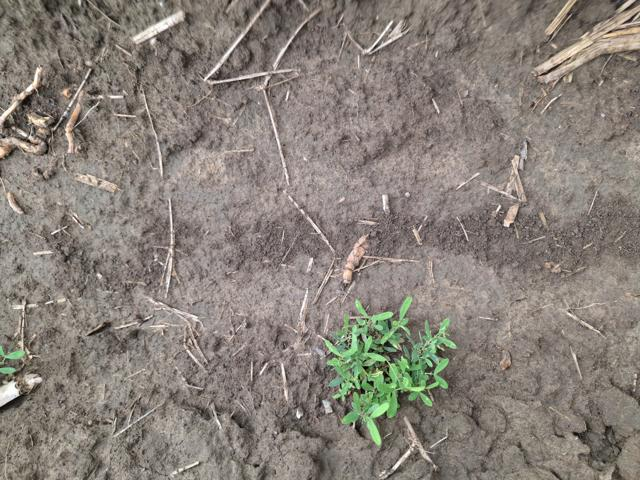bad weed: (313, 294, 479, 437), (0, 331, 34, 403)
